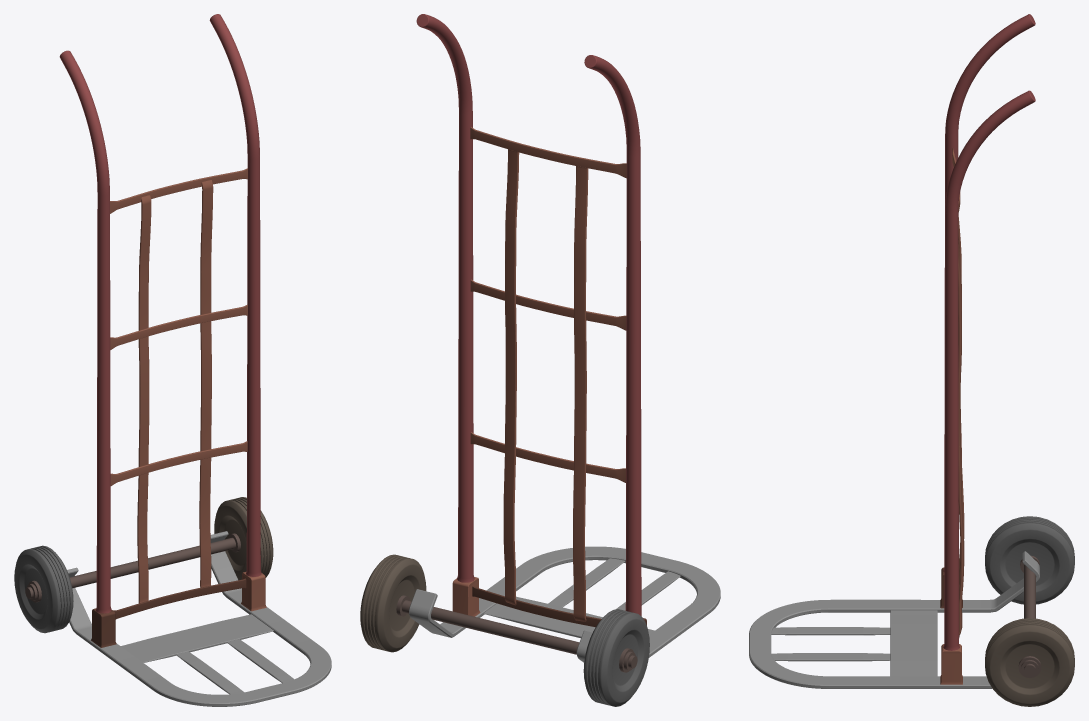
The model's file is parts.gltf.
3 renders of one model, left to right at view 1: azimuth 30°, elevation 25°; view 2: azimuth 150°, elevation 25°; view 3: azimuth 270°, elevation 25°, orthographic. The views are drawn at different scales.
Parts seen in each view (by area): view 1: hand_truck; view 2: hand_truck; view 3: hand_truck.
Part boxes in pixels (<box>): hand_truck: <box>14,14,331,706</box>; hand_truck: <box>360,14,720,706</box>; hand_truck: <box>749,14,1074,706</box>.
Bounding box in the file's own units: 0.5933 × 1.4 × 0.6925.
